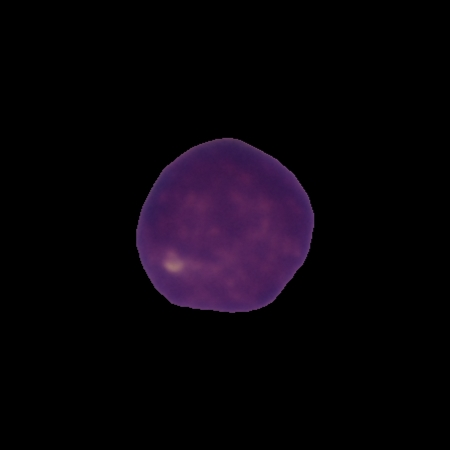HEM: (133, 133, 318, 315)
